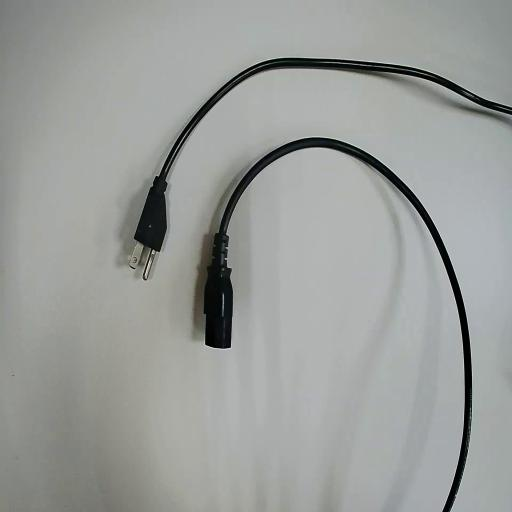wire: (203, 138, 470, 511), (134, 59, 511, 250)
